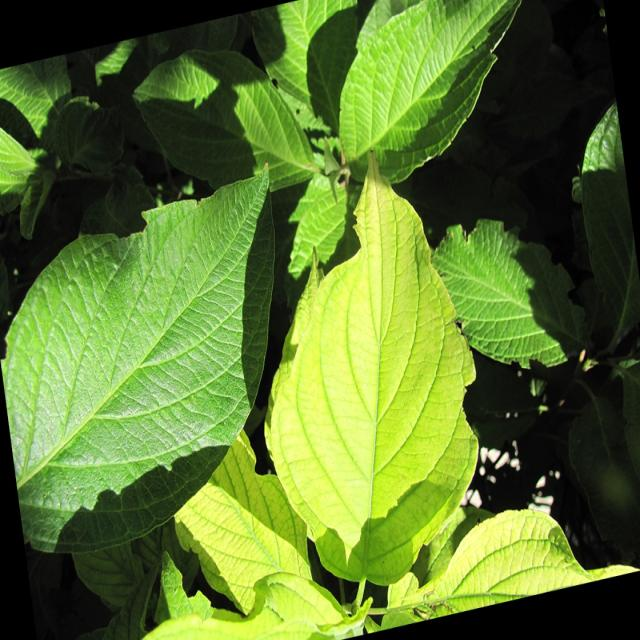Chlorosis: (0, 28, 637, 640)
